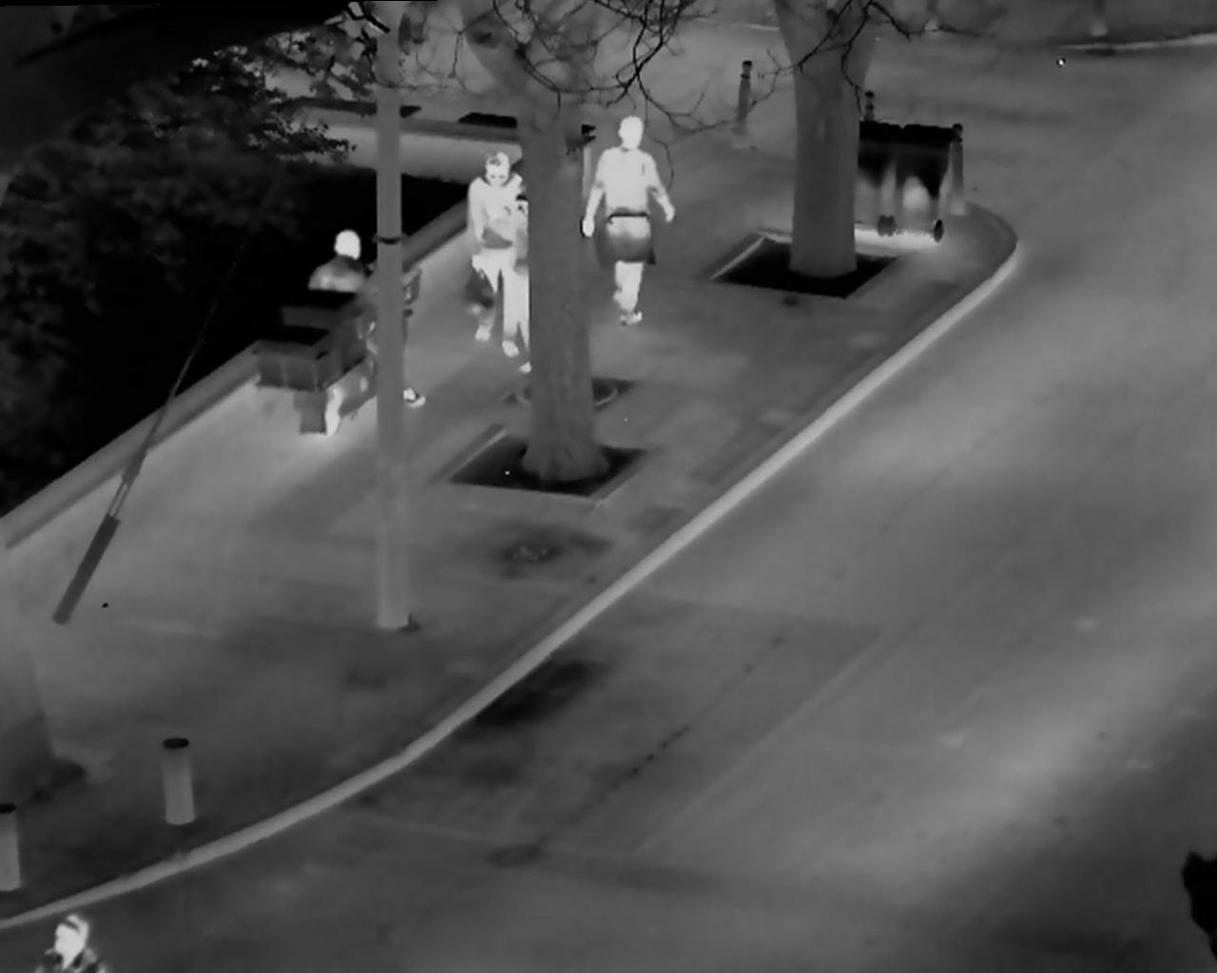person: (589, 106, 677, 329), (460, 144, 529, 353), (299, 224, 380, 394), (25, 908, 110, 973)
